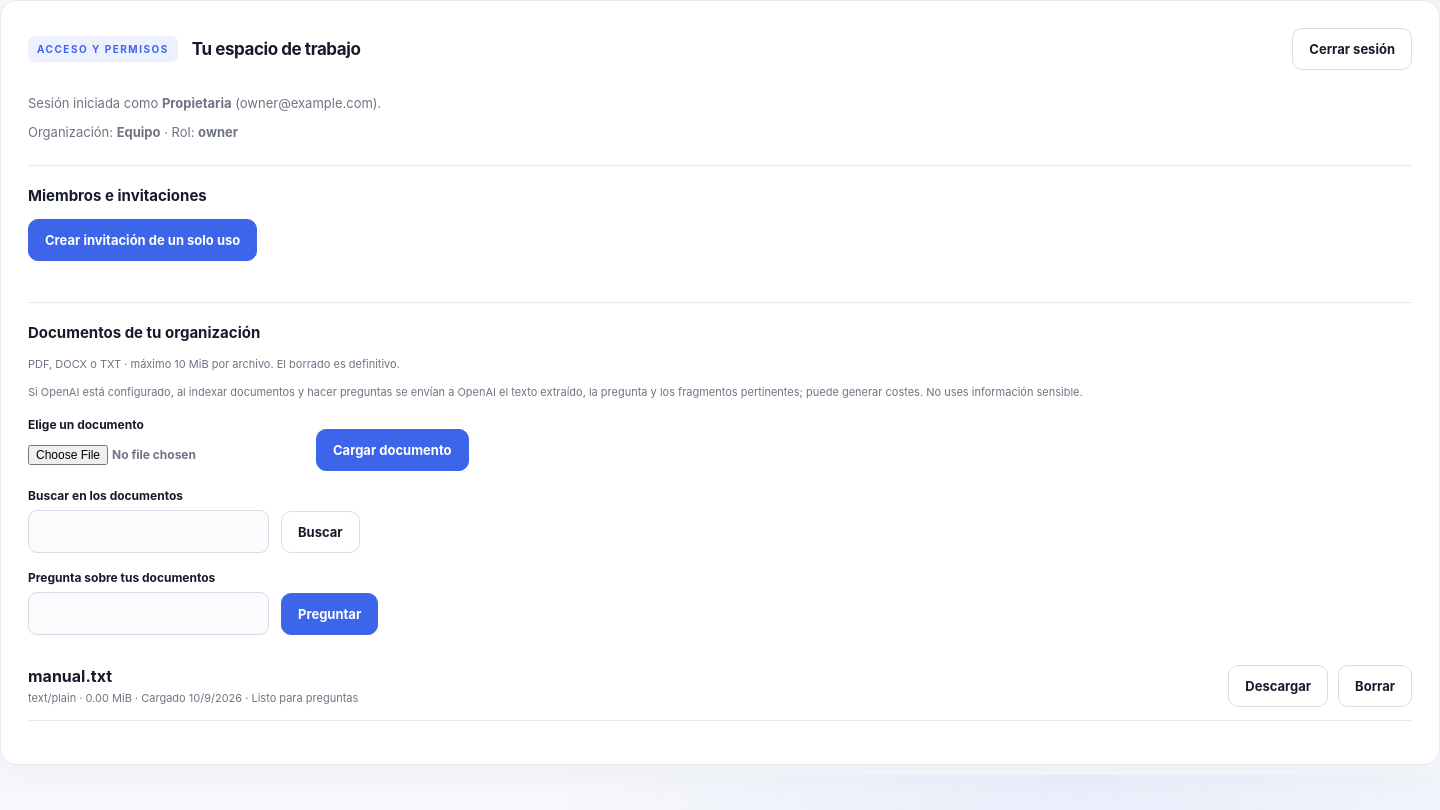
Test: AuthPanel › asks a question and displays validated document citations
Type "¿Cuál es el plazo?" into the field labelled "Pregunta sobre tus documentos" at coordinates (148, 614), box 28,592 -> 269,635
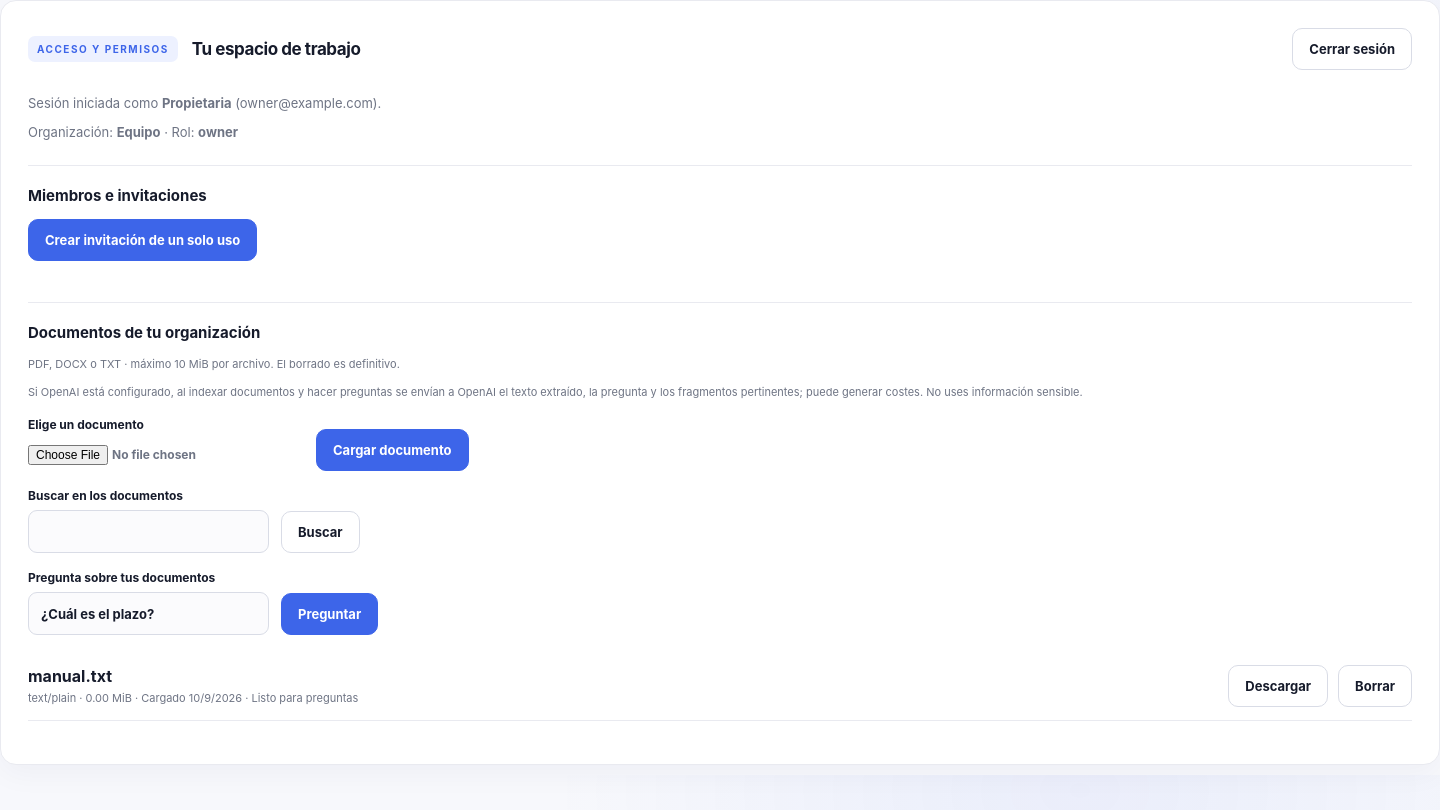
Submit the form "Preguntar", box 28,570 -> 378,635
(page scrolled)
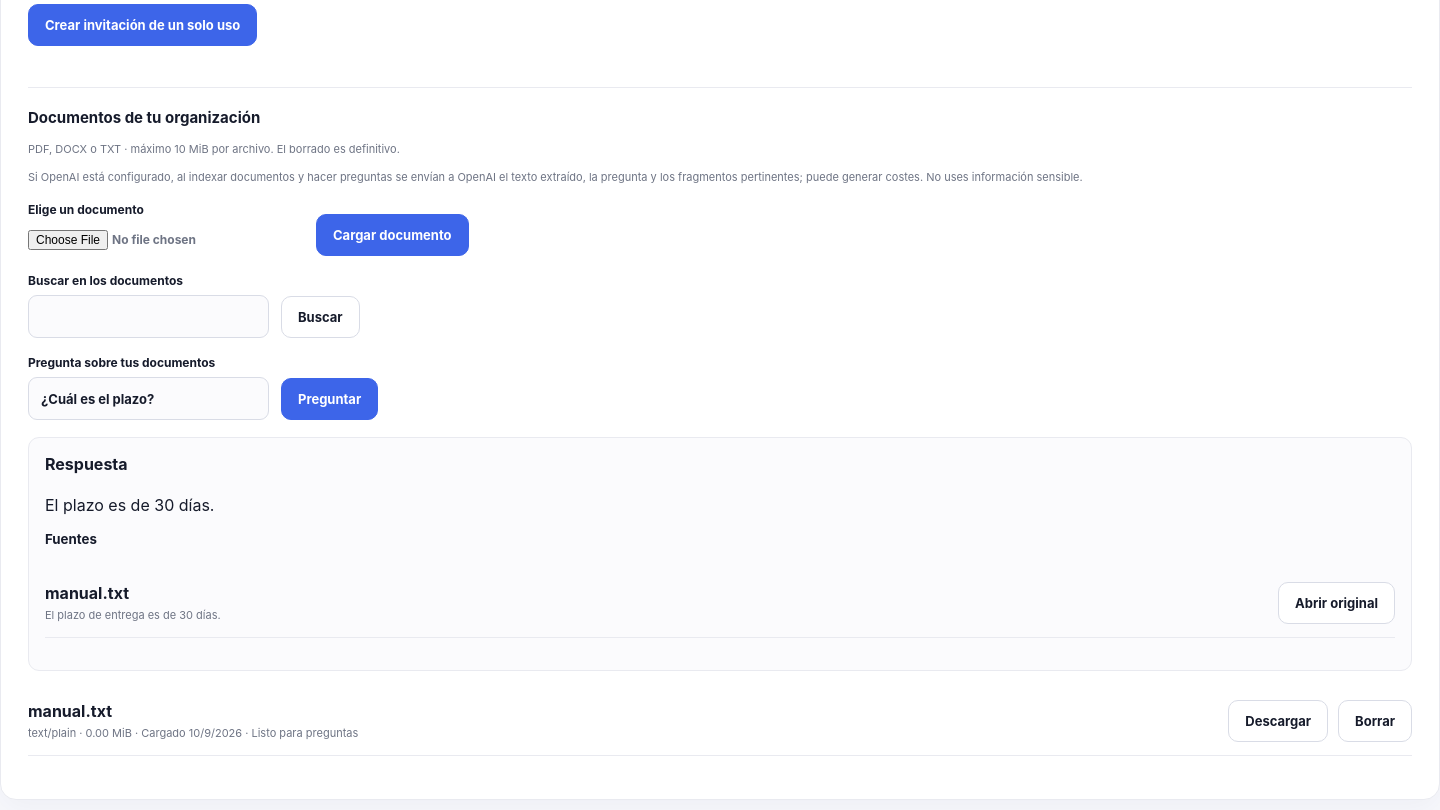
Expected: the text "El plazo es de 30 días." is shown, 45,495 -> 214,515
Expected: the text "El plazo de entrega es de 30 días." is shown, 45,608 -> 221,622
